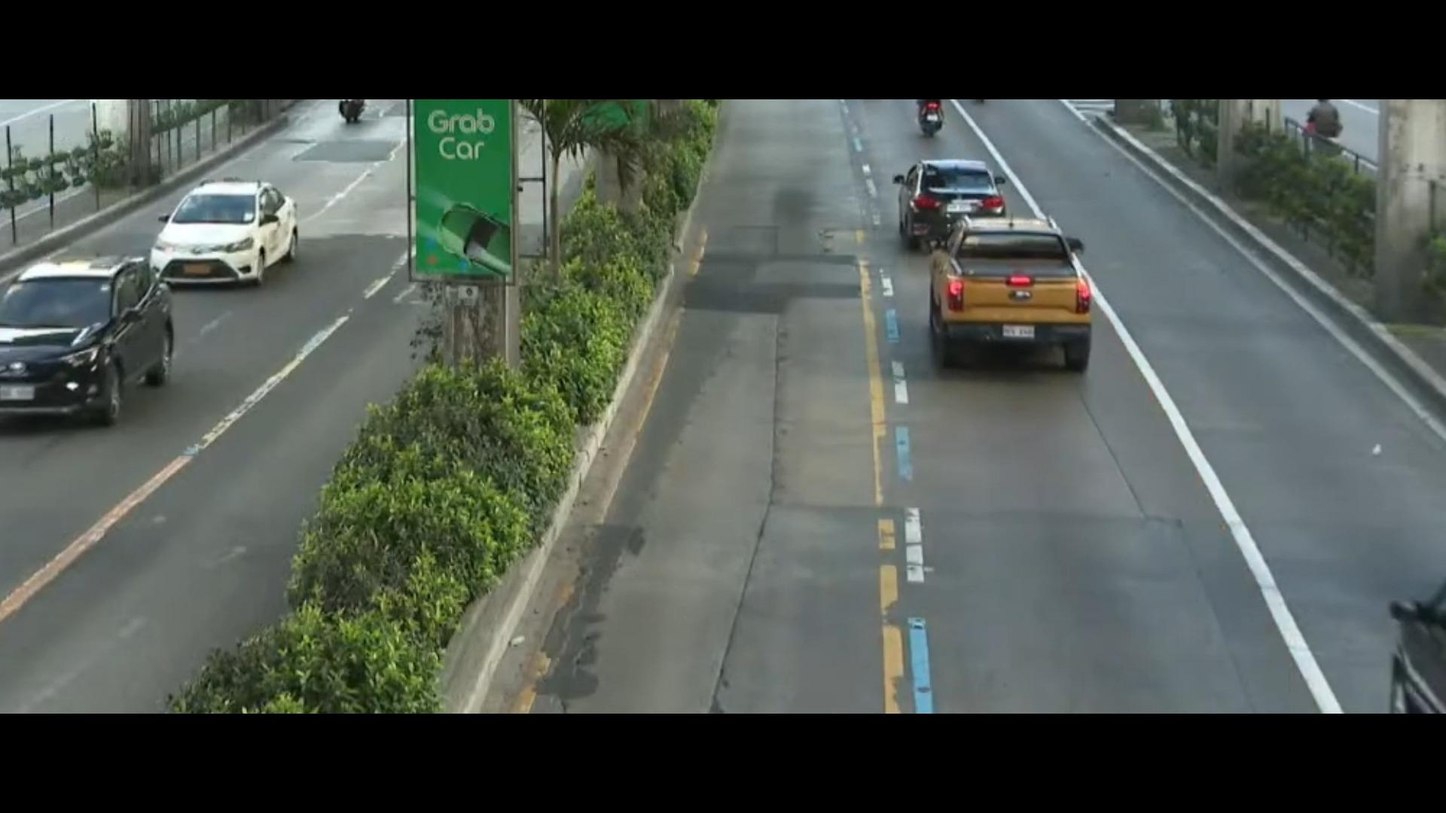Motorcycle: (905, 96, 953, 142), (320, 99, 375, 126)
Pickup: (890, 200, 1132, 371)
SUV: (0, 243, 196, 428)
Sedan: (156, 172, 298, 298), (867, 142, 998, 243)
